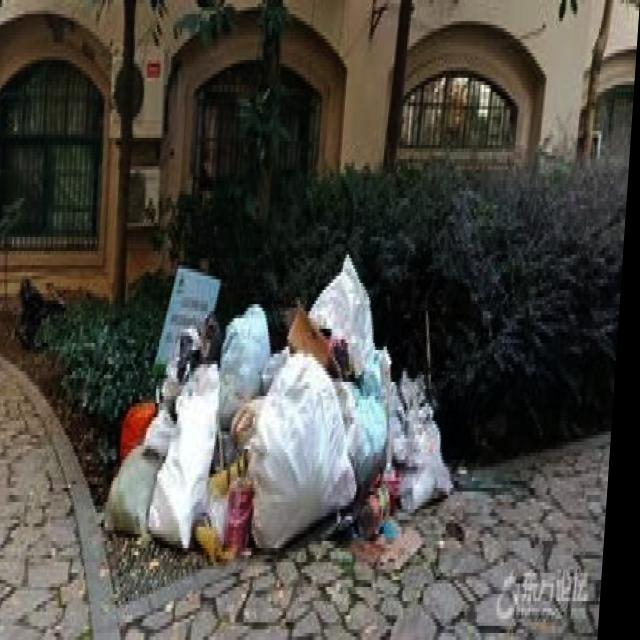garbage: (107, 248, 472, 555)
